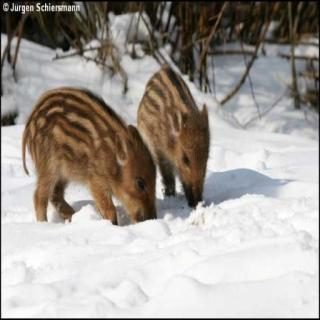Pig: (1, 58, 153, 253), (140, 56, 238, 214)
